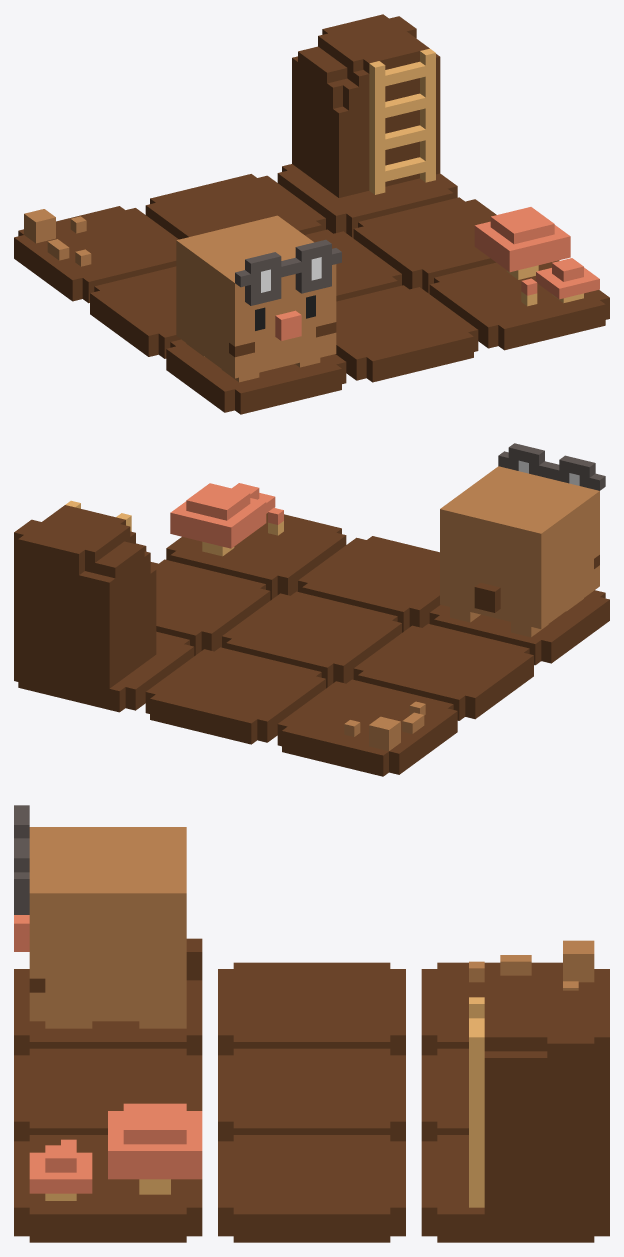
The model's file is chapter_two_tile.obj.
The picture shows the model from 3 angles, top to bottom: view 1: azimuth 30°, elevation 25°; view 2: azimuth 150°, elevation 25°; view 3: azimuth 270°, elevation 25°; orthographic projection. The views are drawn at different scales.
Size of the model in its own units: 3.8 by 1.4 by 3.8.
Materials: 1 (1 with a texture image).
